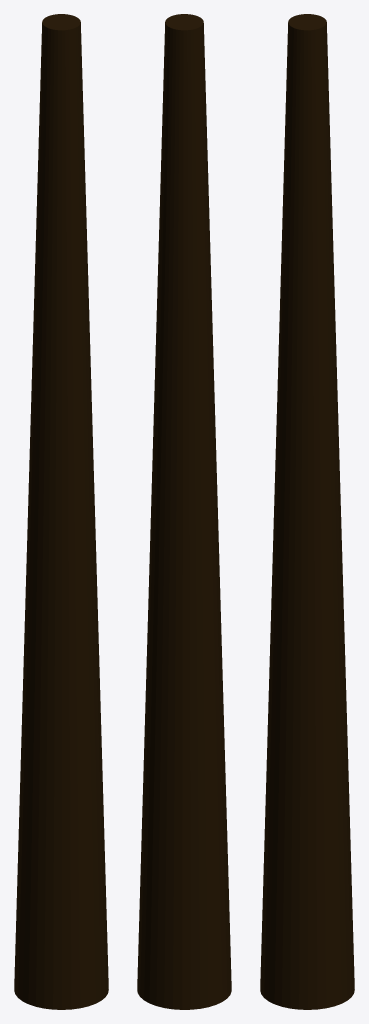
File: Boss_TreeShort.fbx
3 renders of one model, left to right at view 1: azimuth 90°, elevation 25°; view 2: azimuth 210°, elevation 25°; view 3: azimuth 270°, elevation 25°, orthographic.
Parts seen in each view (by area): view 1: Cylinder.013; view 2: Cylinder.013; view 3: Cylinder.013.
Boxes of the visible parts, <box> form: Cylinder.013: <box>14,14,108,1009</box>; Cylinder.013: <box>137,14,231,1009</box>; Cylinder.013: <box>260,14,354,1009</box>.
Bounding box in the file's own units: 134 × 1510 × 134.
